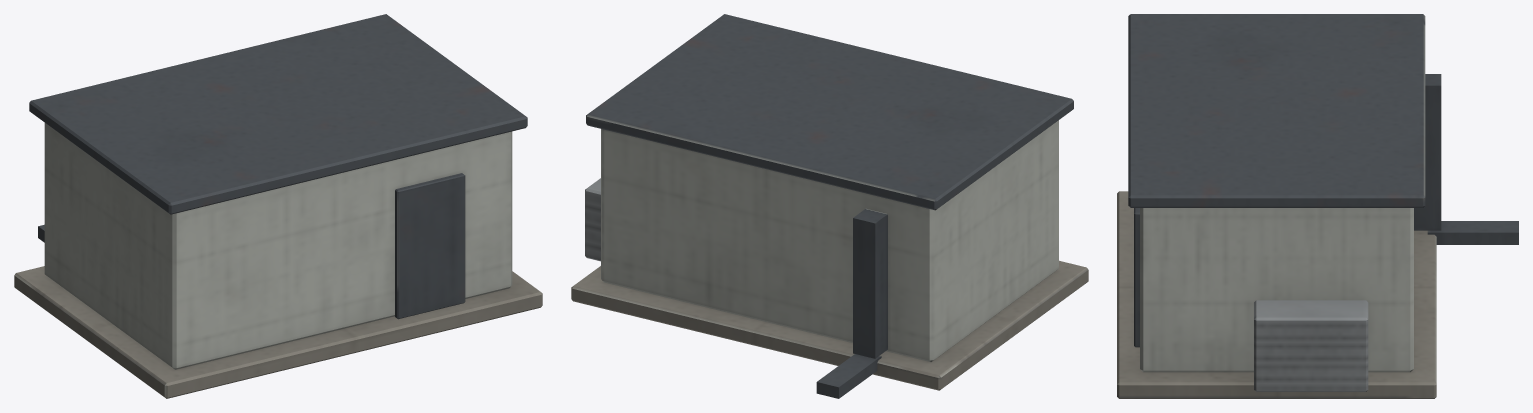
The model's file is equipment-hut.fbx.
The picture shows the model from 3 angles, left to right: view 1: azimuth 30°, elevation 25°; view 2: azimuth 150°, elevation 25°; view 3: azimuth 270°, elevation 25°; orthographic projection. The views are drawn at different scales.
Visible parts, largest first — view 1: equipment-hut; view 2: equipment-hut; view 3: equipment-hut.
Part boxes in pixels (bbox=[...]): equipment-hut: bbox=[14, 14, 542, 398]; equipment-hut: bbox=[571, 14, 1088, 398]; equipment-hut: bbox=[1117, 14, 1518, 398].
Bounding box in the file's own units: 21 × 9.6 × 17.6.
1 material, 1 textured.
